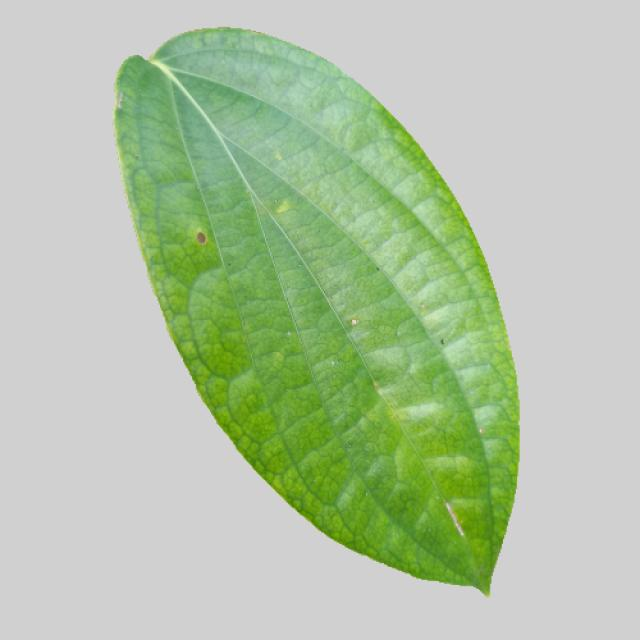healthy: (105, 18, 522, 605)
